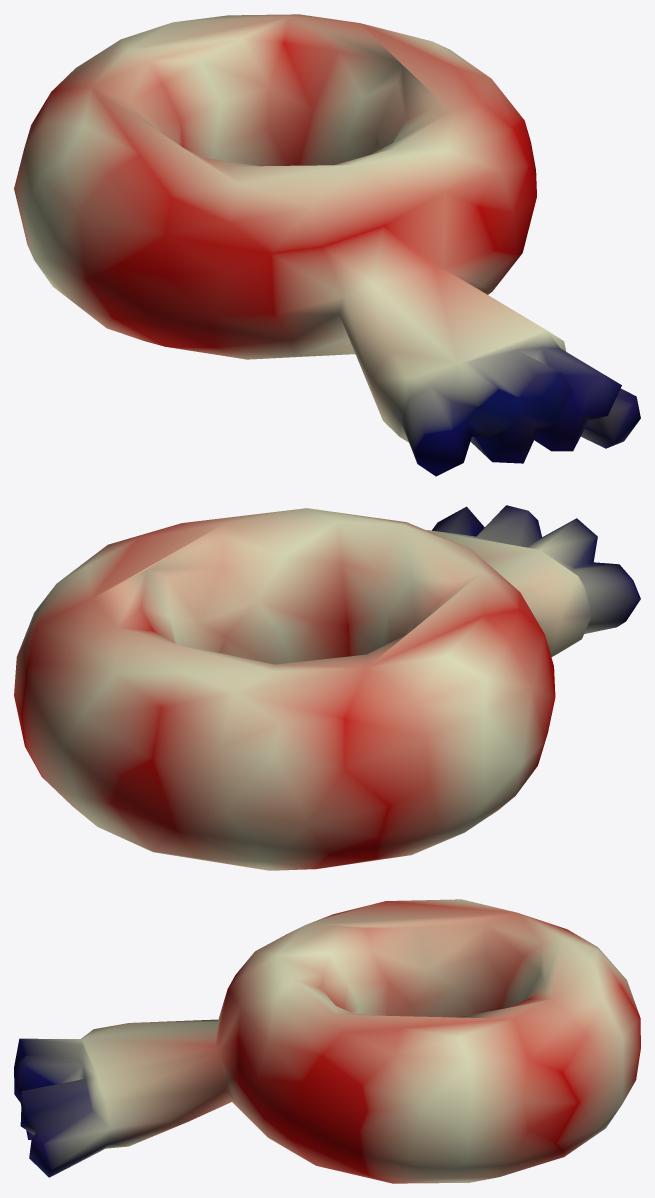
Rendered from acc_scarf.glb.
The picture shows the model from 3 angles, top to bottom: view 1: azimuth 30°, elevation 25°; view 2: azimuth 150°, elevation 25°; view 3: azimuth 270°, elevation 25°; orthographic projection. The views are drawn at different scales.
Visible parts, largest first — view 1: geometry_0; view 2: geometry_0; view 3: geometry_0.
Part boxes in pixels (box(x1,y1,x2,y2)): geometry_0: box(14, 14, 640, 476); geometry_0: box(14, 505, 640, 870); geometry_0: box(14, 899, 640, 1183).
Bounding box in the file's own units: 0.6124 × 0.2682 × 0.9.
